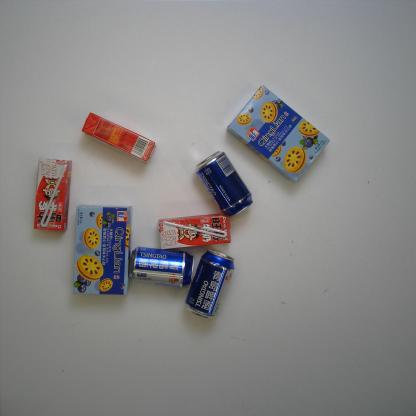Alcohol: (194, 150, 254, 218), (184, 249, 235, 320), (128, 246, 194, 287)
Dessert: (226, 85, 332, 183), (73, 204, 132, 296)
Milk: (81, 112, 155, 162), (34, 158, 72, 232), (158, 212, 231, 250)
